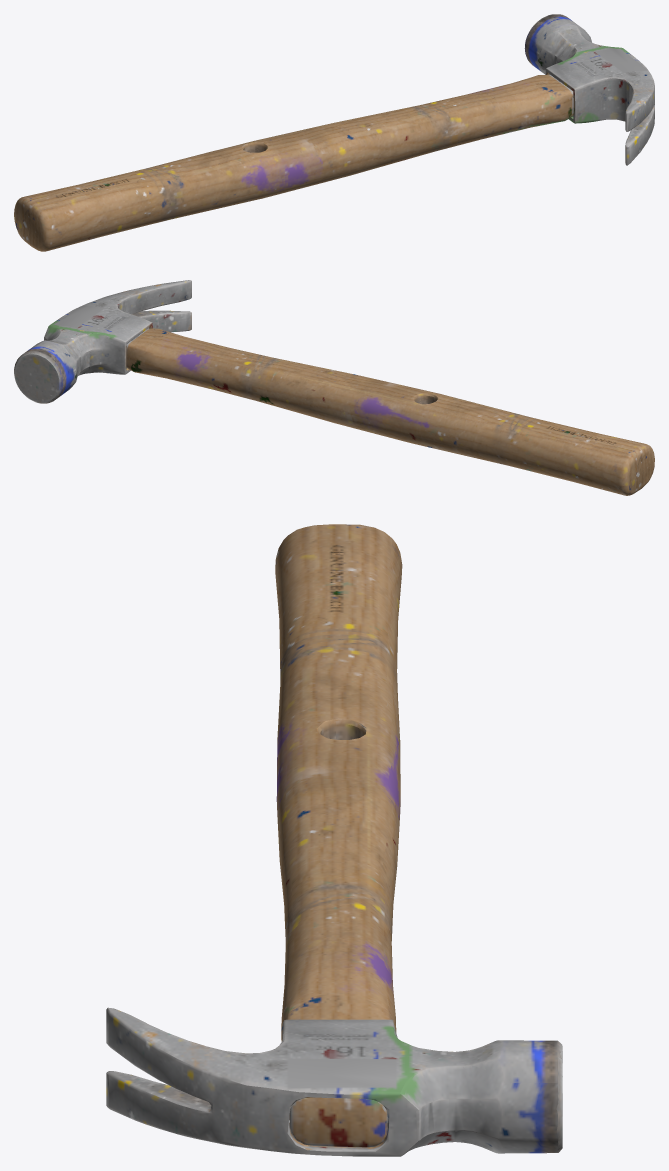
File: tool_hammer_a01.glb
3 views of the same model, one above another, from view 1: azimuth 30°, elevation 25°; view 2: azimuth 150°, elevation 25°; view 3: azimuth 270°, elevation 25° (orthographic). The views are drawn at different scales.
Parts seen in each view (by area): view 1: tool_hammer_a01_lod1; view 2: tool_hammer_a01_lod1; view 3: tool_hammer_a01_lod1.
Part boxes in pixels (<box>): tool_hammer_a01_lod1: <box>14,14,654,251</box>; tool_hammer_a01_lod1: <box>14,280,654,495</box>; tool_hammer_a01_lod1: <box>106,524,562,1156</box>.
Size of the model in its own units: 0.3045 by 0.0257 by 0.1042.
1 material, 1 textured.
